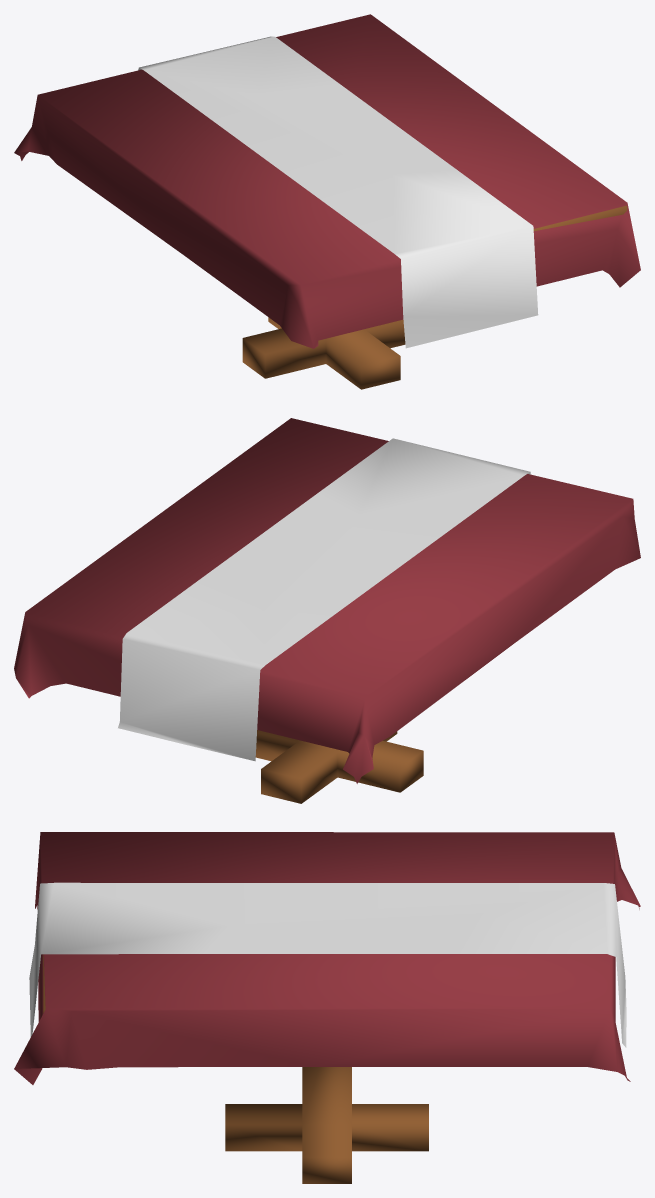
The model's file is squaretable.gltf.
3 views of the same model, one above another, from view 1: azimuth 30°, elevation 25°; view 2: azimuth 150°, elevation 25°; view 3: azimuth 270°, elevation 25° (orthographic). The views are drawn at different scales.
Parts seen in each view (by area): view 1: table.002; view 2: table.002; view 3: table.002.
Boxes of the visible parts, box(x1,y1,x2,y2) form: table.002: box(14, 14, 640, 389); table.002: box(14, 418, 640, 803); table.002: box(14, 832, 640, 1183).
Bounding box in the file's own units: 6.61 × 3.63 × 9.23.
